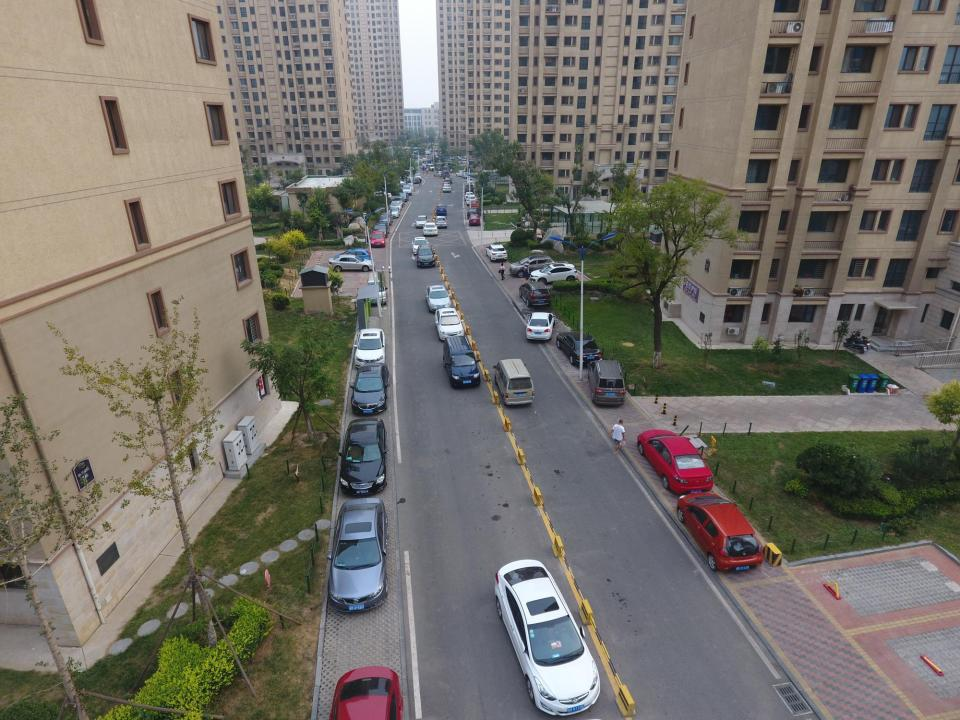car: (494, 559, 600, 717), (326, 498, 387, 612), (677, 492, 762, 572), (637, 429, 713, 494), (328, 665, 402, 720), (338, 417, 389, 494), (349, 362, 390, 414), (443, 336, 481, 388), (557, 331, 602, 365), (352, 328, 385, 368), (530, 263, 577, 285), (509, 255, 554, 277), (434, 308, 464, 340), (328, 255, 376, 272), (519, 282, 550, 308), (526, 313, 555, 339), (334, 248, 372, 266), (426, 285, 451, 312), (416, 245, 436, 267), (486, 244, 508, 262), (412, 236, 430, 255), (370, 231, 386, 247), (373, 222, 389, 238), (422, 222, 438, 236), (379, 212, 393, 225), (370, 191, 392, 199), (415, 215, 428, 228), (433, 216, 447, 228), (467, 207, 481, 218), (468, 214, 480, 226), (387, 206, 400, 217), (386, 179, 406, 186), (466, 195, 477, 206), (390, 201, 402, 211), (435, 205, 447, 215), (394, 197, 405, 207), (397, 193, 409, 202), (402, 185, 412, 195), (464, 192, 475, 201), (469, 200, 479, 209), (465, 183, 474, 193), (466, 181, 474, 189), (406, 183, 414, 191), (411, 176, 419, 184), (443, 184, 451, 192), (456, 171, 466, 177), (439, 167, 449, 173), (442, 182, 451, 188), (466, 178, 474, 184), (462, 172, 470, 178), (444, 178, 452, 184), (434, 171, 442, 177), (414, 173, 421, 179), (420, 164, 427, 169)
van: (493, 359, 534, 405), (588, 359, 625, 406), (366, 273, 388, 305), (440, 170, 450, 178), (426, 163, 436, 171)
